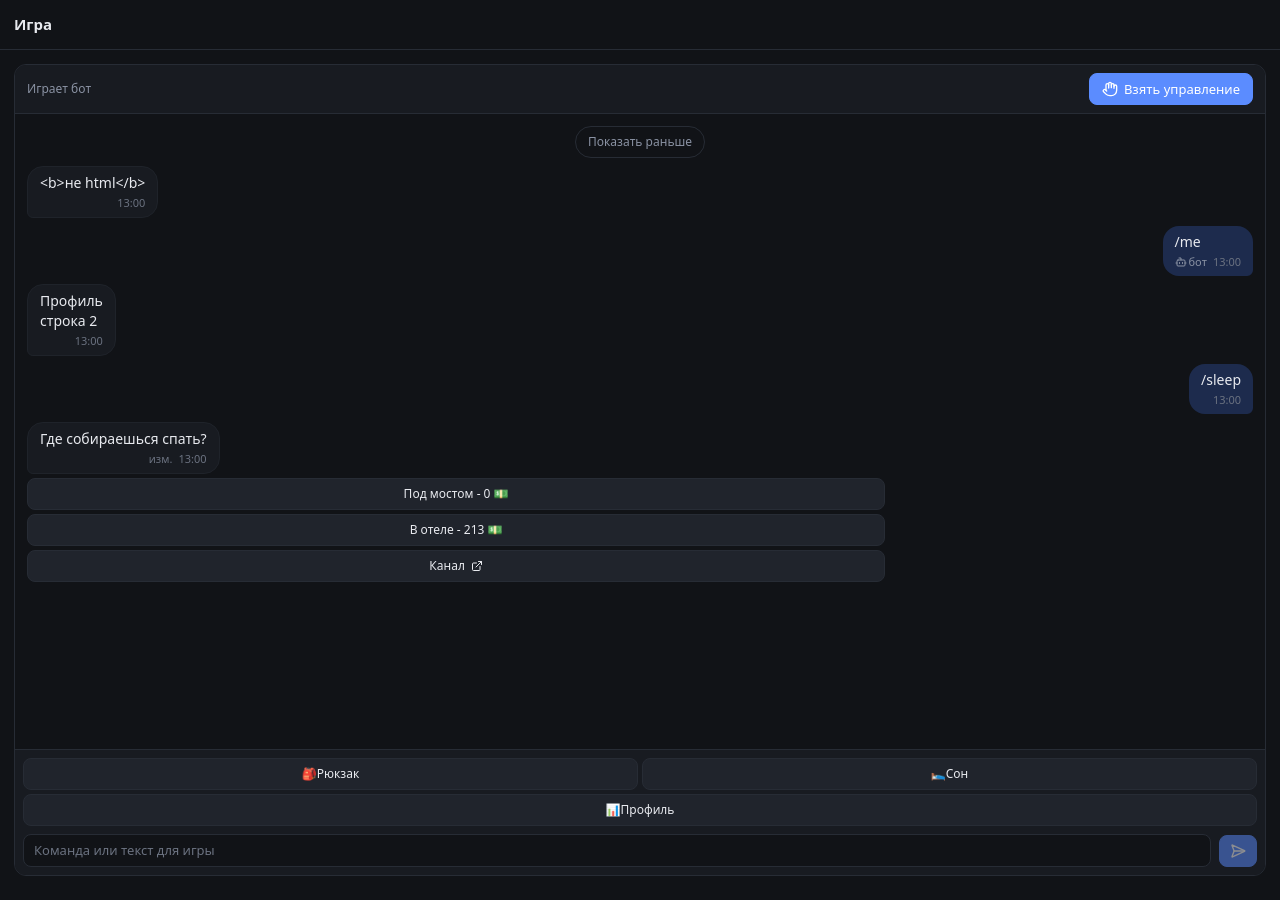
Test: Игра: чат › история раньше — кнопкой сверху, порядок сохраняется
The width and height of the screenshot is (1280, 900).
Expected: the text "Где собираешься спать?" is shown, [40,429,206,449]
Click the button "Показать раньше": click(640, 142) [575,126,705,158]
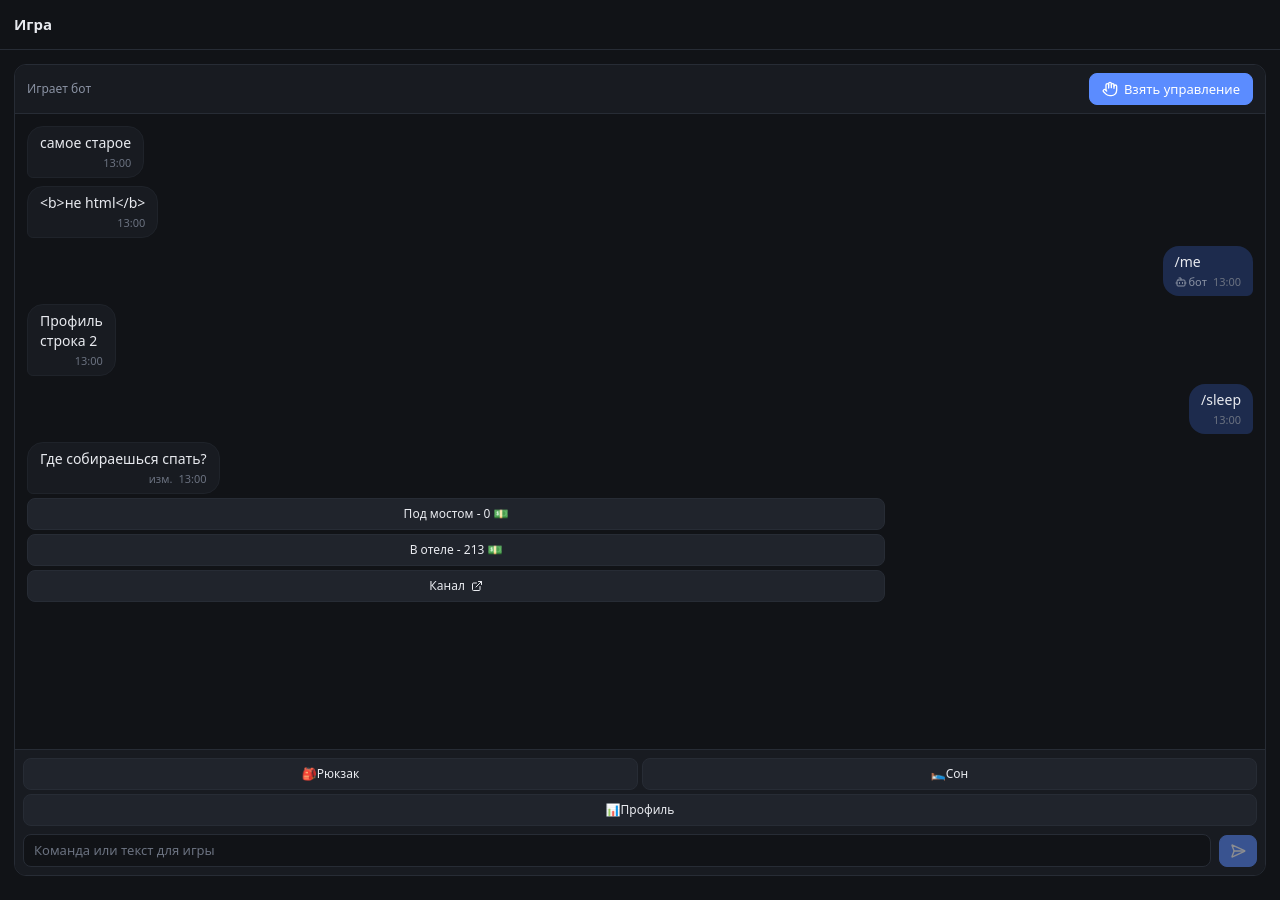
Expected: the text "самое старое" is shown, [40,133,131,153]
Expected: the button "Показать раньше" is gone
